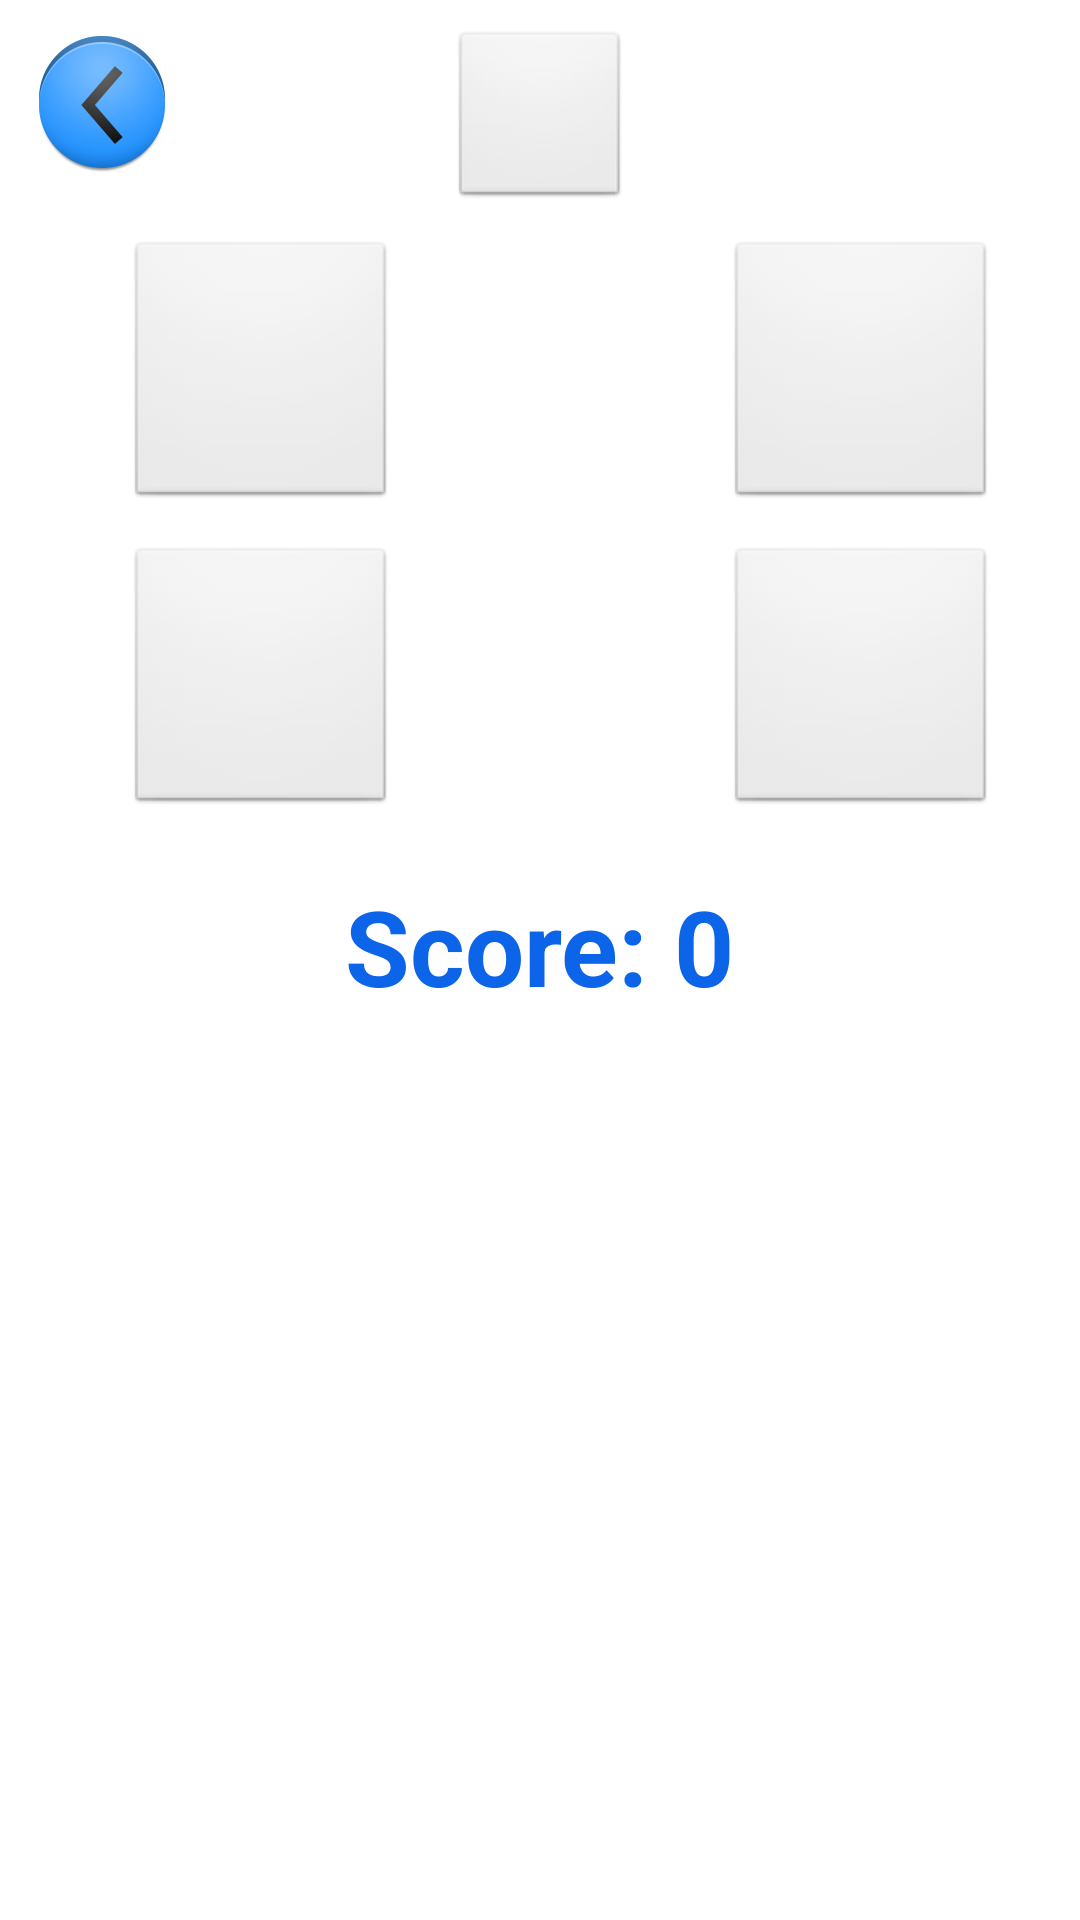

Point at icon controls on the screen. Image size 1080px x 1920px, points as (x,y).
previous: (102,103)
